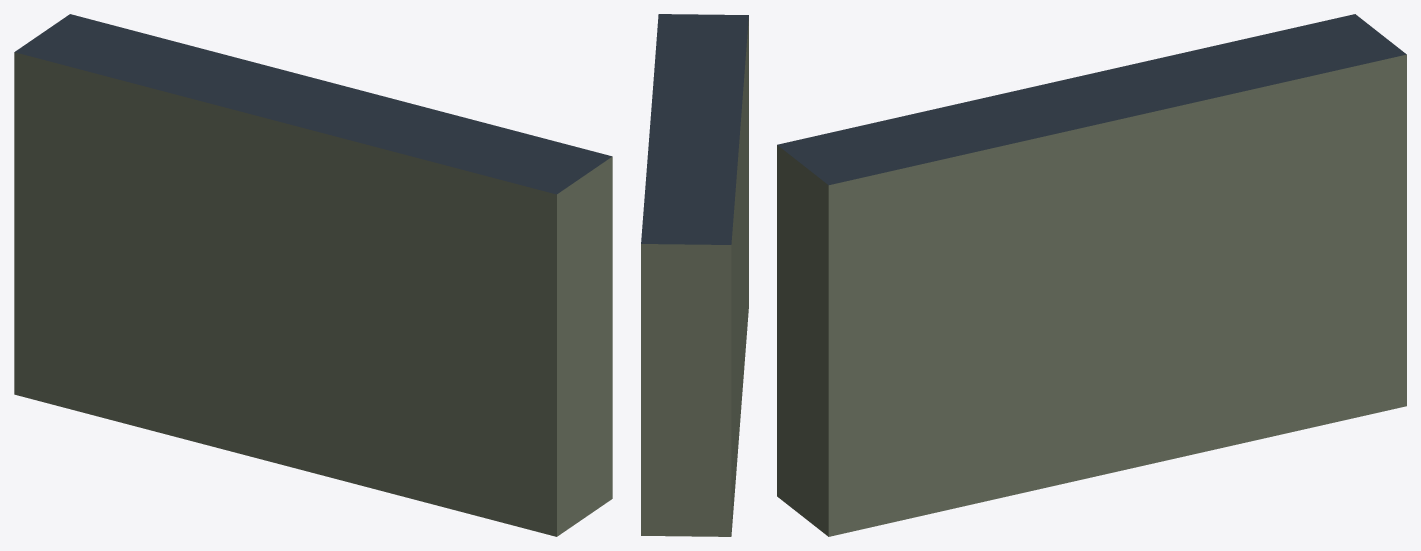
Rendered from nyc-1022650-0.glb.
3 views of the same model, side by side, from view 1: azimuth 30°, elevation 25°; view 2: azimuth 150°, elevation 25°; view 3: azimuth 270°, elevation 25° (orthographic). The views are drawn at different scales.
Visible parts, largest first — view 1: nyc-1022650-0; view 2: nyc-1022650-0; view 3: nyc-1022650-0.
Part boxes in pixels (bbox=[...]): nyc-1022650-0: bbox=[14, 14, 612, 536]; nyc-1022650-0: bbox=[641, 14, 748, 536]; nyc-1022650-0: bbox=[777, 14, 1406, 536].
Size of the model in its own units: 16.56 by 15.85 by 25.73.
